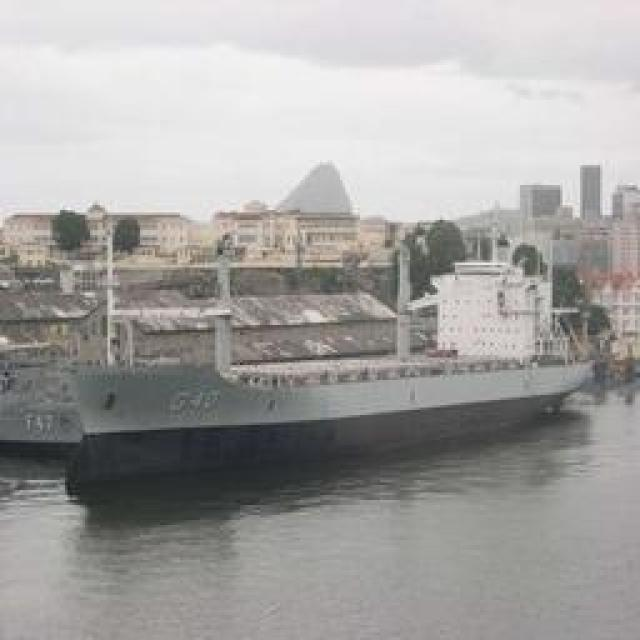CIV_Ship: (36, 245, 592, 493)
